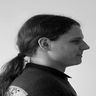ear: (35, 33, 55, 56)
